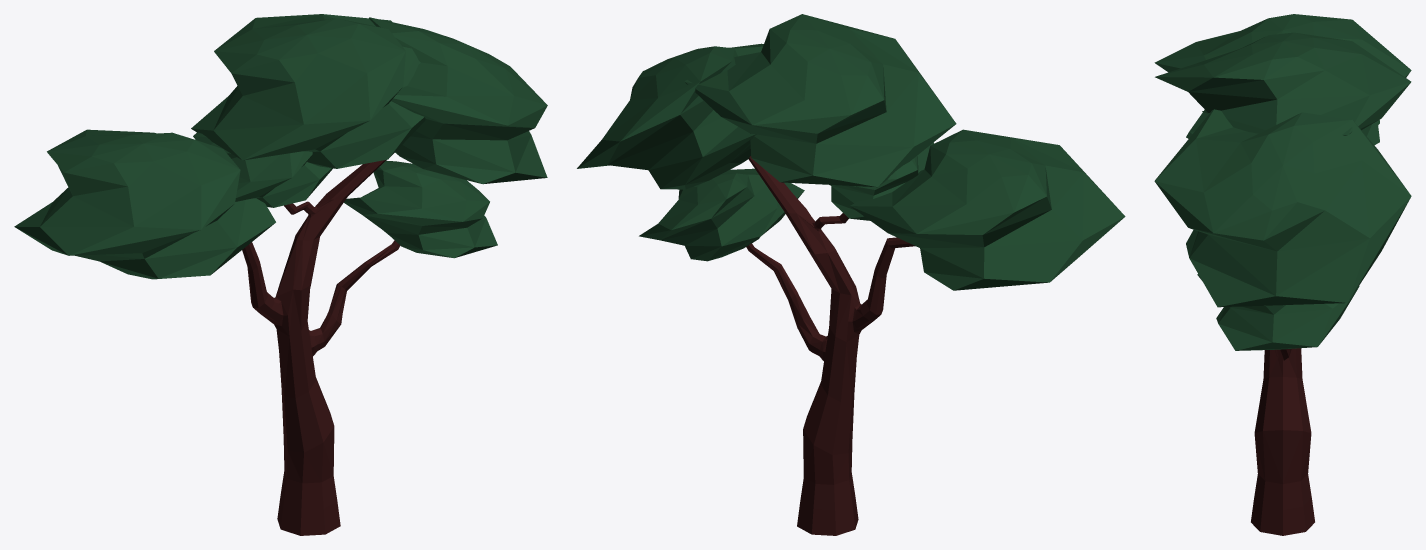
Rendered from 01_treeA_02.fbx.
The picture shows the model from 3 angles, left to right: view 1: azimuth 30°, elevation 25°; view 2: azimuth 150°, elevation 25°; view 3: azimuth 270°, elevation 25°; orthographic projection. The views are drawn at different scales.
Parts seen in each view (by area): view 1: _treeCopaA_02, _treeTroncoA_02; view 2: _treeCopaA_02, _treeTroncoA_02; view 3: _treeCopaA_02, _treeTroncoA_02.
Part boxes in pixels (x1,y1,x2,y2): _treeCopaA_02: [14, 14, 547, 279]; _treeTroncoA_02: [242, 159, 400, 535]; _treeCopaA_02: [577, 14, 1125, 290]; _treeTroncoA_02: [746, 156, 915, 535]; _treeCopaA_02: [1154, 14, 1411, 350]; _treeTroncoA_02: [1251, 348, 1314, 535].
Bounding box in the file's own units: 4.92 × 4.64 × 2.23.
